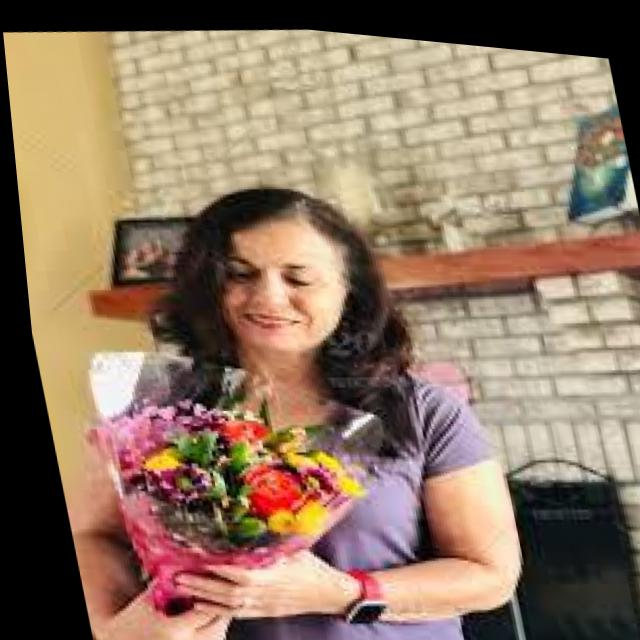Flower: (99, 377, 286, 473), (222, 451, 313, 531)
